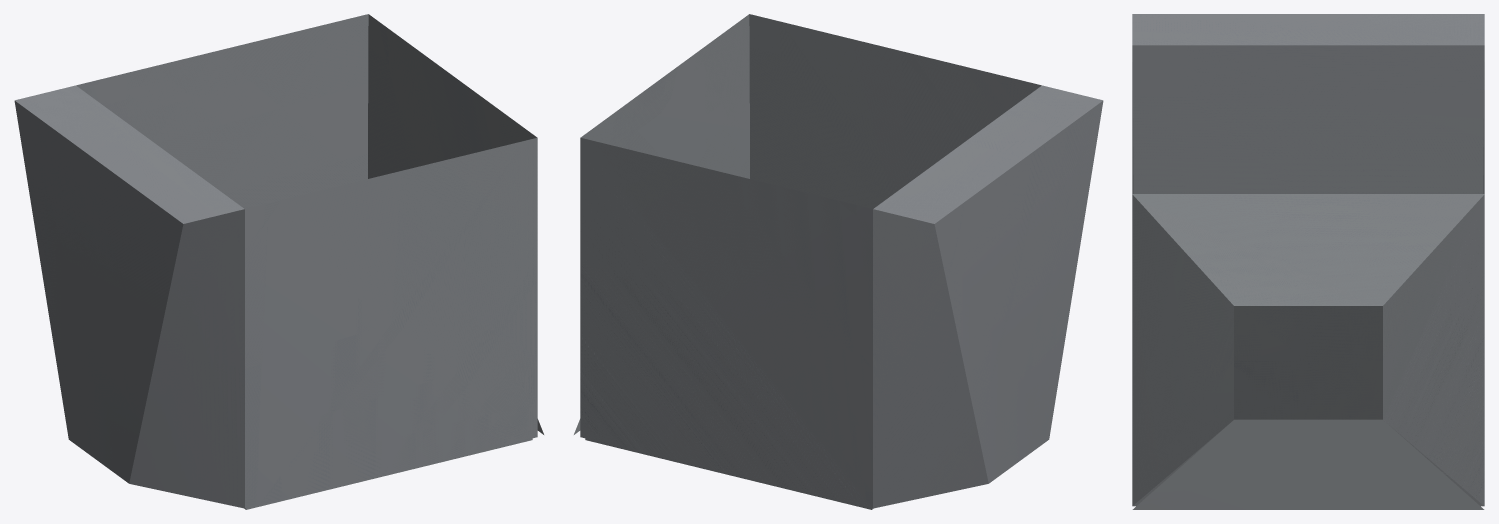
File: carro.fbx
3 views of the same model, side by side, from view 1: azimuth 30°, elevation 25°; view 2: azimuth 150°, elevation 25°; view 3: azimuth 270°, elevation 25° (orthographic). The views are drawn at different scales.
Parts seen in each view (by area): view 1: Cube; view 2: Cube; view 3: Cube.
Part boxes in pixels (x1,y1,x2,y2): Cube: (14,14,543,509); Cube: (574,14,1103,509); Cube: (1132,14,1484,509).
Bounding box in the file's own units: 595 × 434 × 439.
